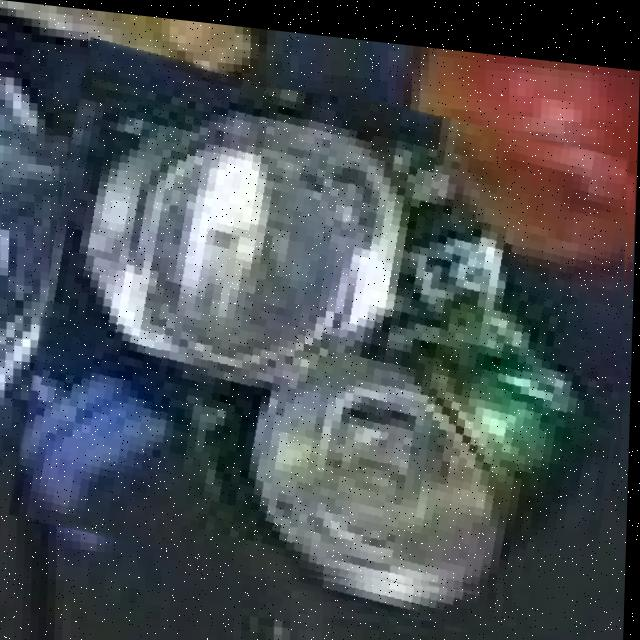can: (53, 79, 622, 577)
